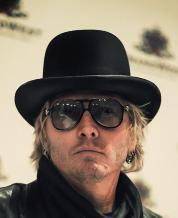face: (51, 100, 120, 160)
